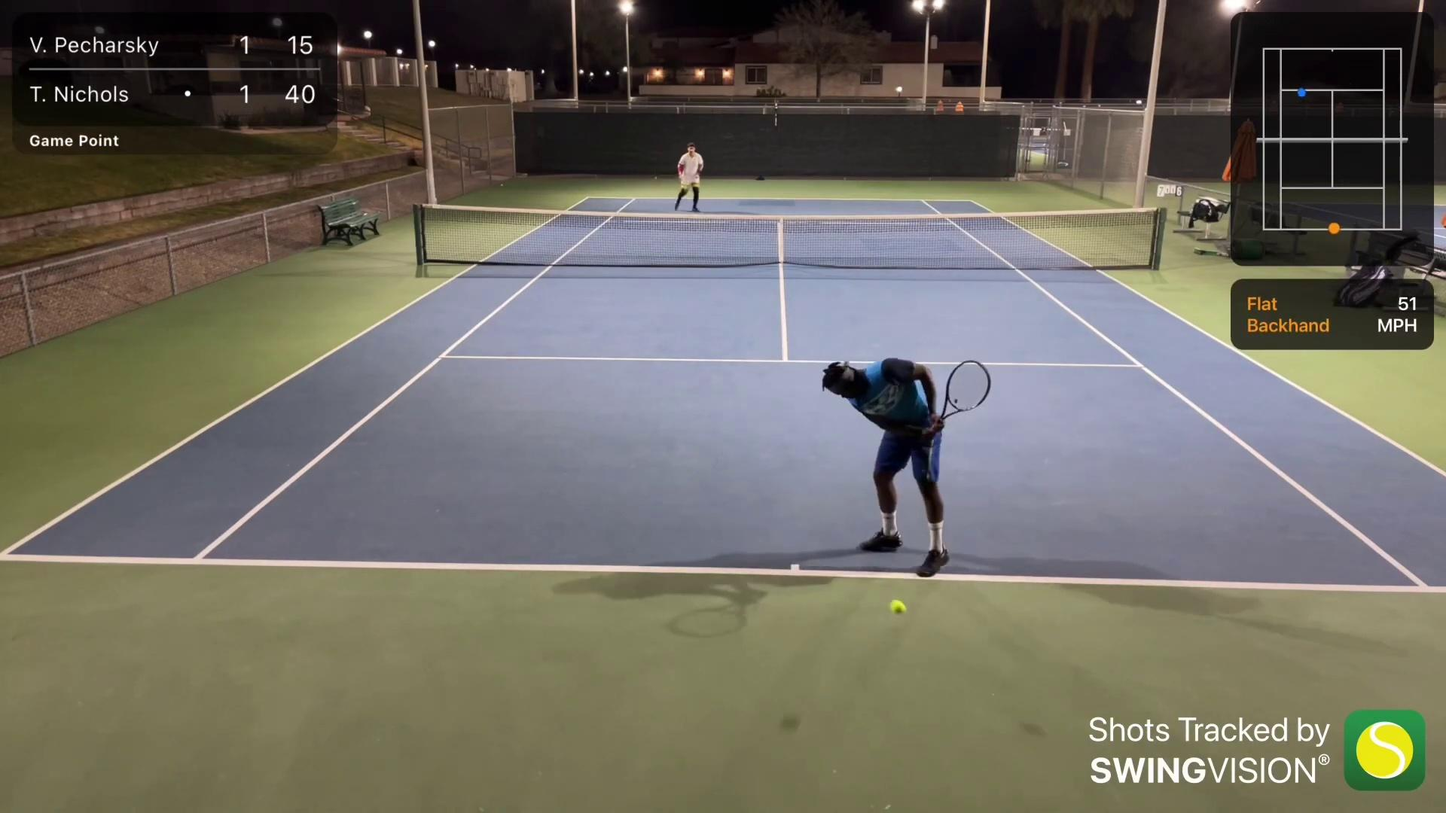ball: (883, 598, 911, 615)
